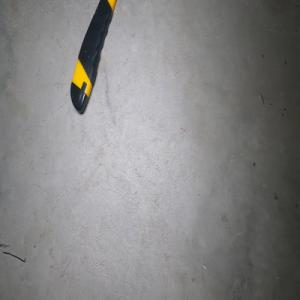Cutter: (69, 0, 118, 114)
